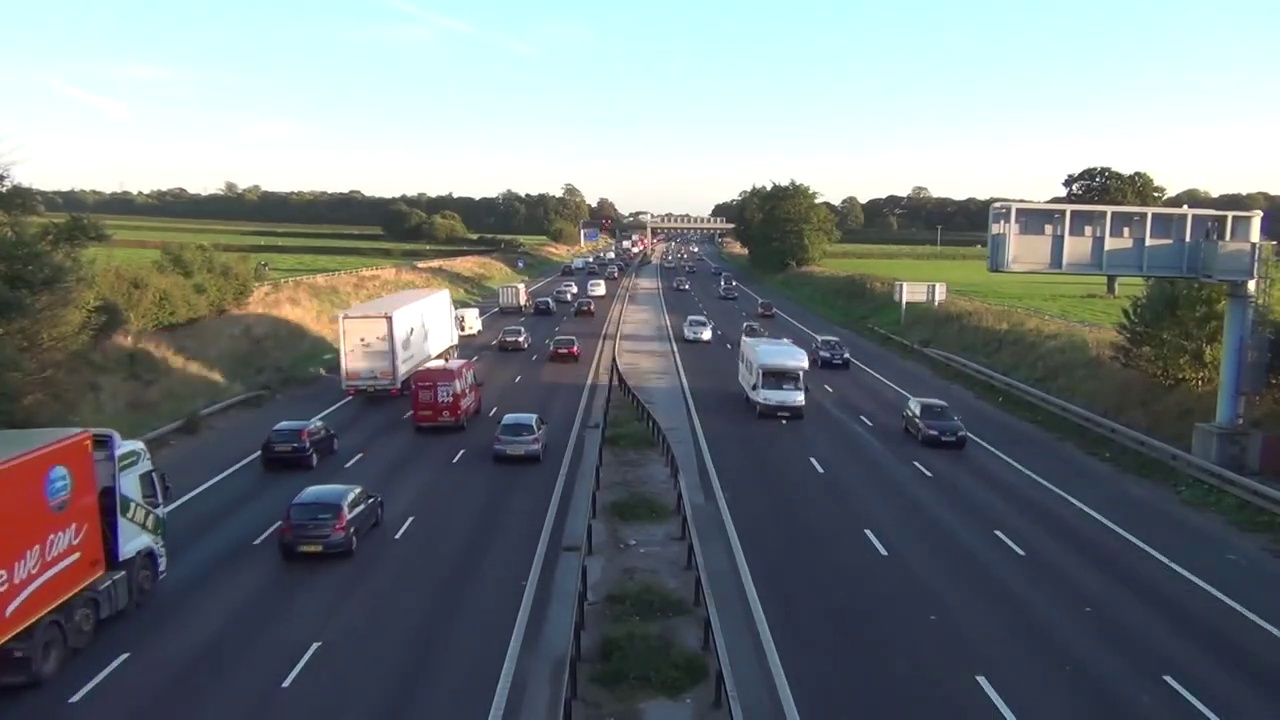bus: (285, 483, 383, 559), (263, 420, 338, 473), (900, 398, 967, 451), (492, 412, 548, 464), (812, 335, 848, 369), (681, 312, 716, 344), (495, 325, 531, 350), (548, 333, 581, 360), (573, 298, 595, 318), (532, 297, 556, 315), (756, 300, 776, 317)
car: (0, 429, 166, 701), (340, 289, 462, 398), (498, 287, 529, 313)
lorry: (458, 308, 484, 336)
minibus: (737, 335, 809, 424), (414, 360, 480, 432)
